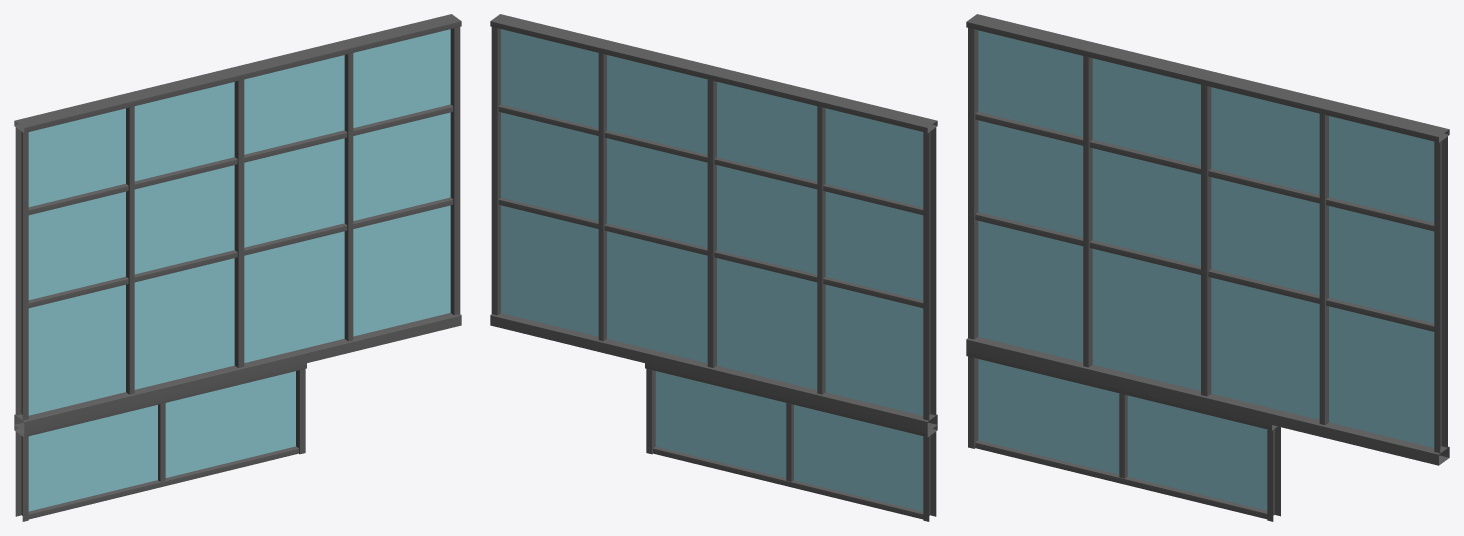
The model's file is module_windows.fbx.
The picture shows the model from 3 angles, left to right: view 1: azimuth 30°, elevation 25°; view 2: azimuth 150°, elevation 25°; view 3: azimuth 330°, elevation 25°; orthographic projection. The views are drawn at different scales.
Parts seen in each view (by area): view 1: module_window_1, window_entrance; view 2: module_window_1, window_entrance; view 3: module_window_1, window_entrance.
Boxes of the visible parts, x1,y1,x2,y2 form: module_window_1: (14, 14, 461, 431); window_entrance: (14, 363, 306, 521); module_window_1: (490, 14, 937, 431); window_entrance: (645, 363, 937, 521); module_window_1: (966, 14, 1449, 465); window_entrance: (966, 350, 1280, 521).
Size of the model in its own units: 850 by 734 by 33.5.
